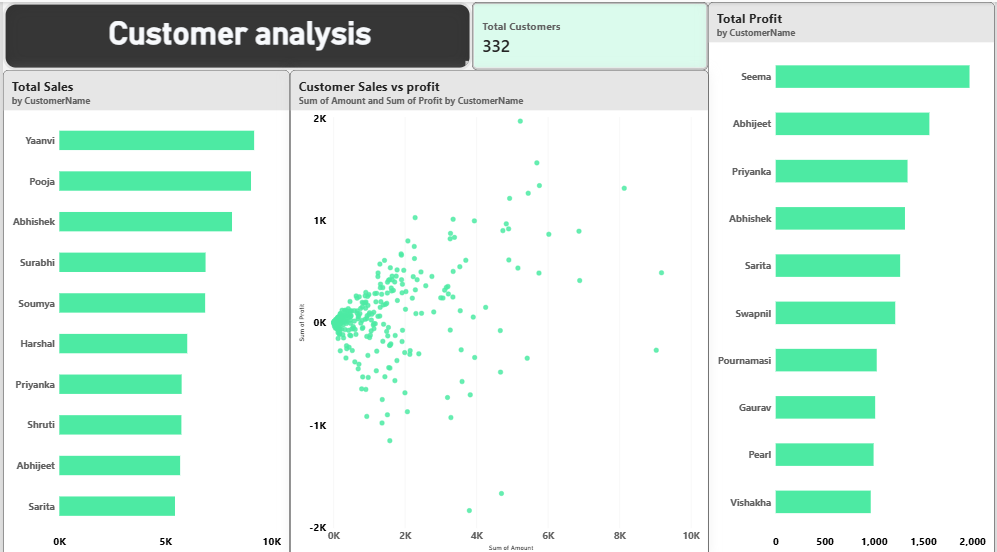

Layout of this report page (visuals, bound fields, positions):
{"tool":"powerbi","page":{"name":"Customer analysis","canvas":[1920,1080],"ordinal":2},"visuals":[{"type":"textbox","title":" Customer analysis","box":[0,0,907.8,131.8],"z":0},{"type":"cardVisual","fields":{"Data":["Table1_1.Total Customers"]},"box":[907.8,0,457.1,131.8],"z":2000},{"type":"clusteredBarChart","fields":{"Category":["Table1_1.CustomerName"],"Y":["Table1_1.Total Sales"]},"box":[0,131.8,554.9,948.2],"z":3000},{"type":"clusteredBarChart","fields":{"Category":["Table1_1.CustomerName"],"Y":["Table1_1.Total Profit"]},"box":[1364.9,0,554.9,1080],"z":4000},{"type":"scatterChart","title":"Customer Sales vs profit","fields":{"Category":["Table1_1.CustomerName"],"X":["Sum(Table1_1.Amount)"],"Y":["Sum(Table1_1.Profit)"]},"box":[554.9,131.8,810,948.2],"z":5000}]}

Visuals, with their boxes in screenshot pixels (x1, y1, x2, y2), scaled from the page's 1920x1080 canvas onto the 997x552 screenshot:
" Customer analysis" textbox: (left=0, top=0, right=471, bottom=67)
cardVisual - Table1_1.Total Customers: (left=471, top=0, right=709, bottom=67)
clusteredBarChart - Table1_1.CustomerName x Table1_1.Total Sales: (left=0, top=67, right=288, bottom=551)
clusteredBarChart - Table1_1.CustomerName x Table1_1.Total Profit: (left=709, top=0, right=996, bottom=551)
"Customer Sales vs profit" scatterChart: (left=288, top=67, right=709, bottom=551)
